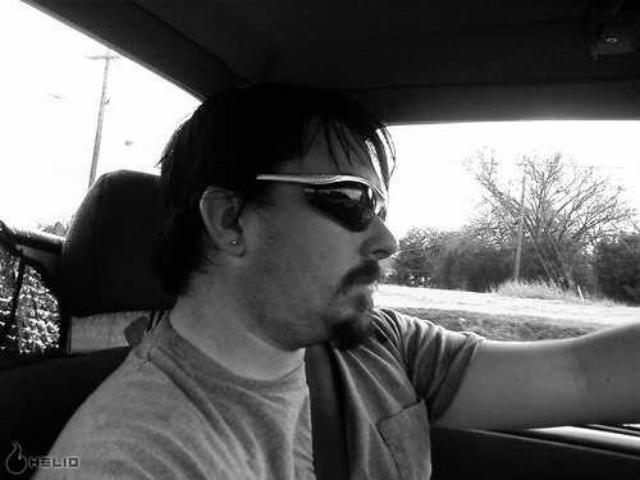Seatbelt: (298, 340, 362, 480)
